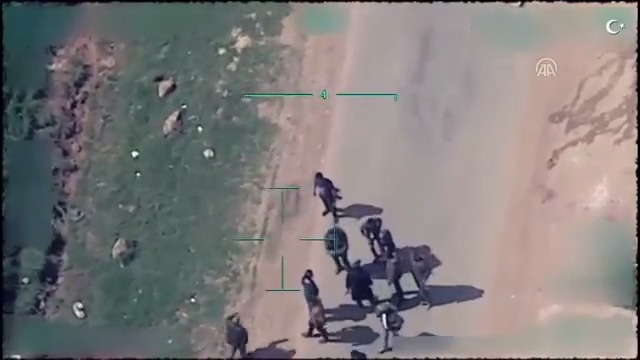insan: (309, 167, 346, 228), (343, 258, 379, 313), (376, 299, 409, 355), (214, 311, 249, 360), (376, 247, 409, 297), (355, 211, 385, 260), (321, 226, 351, 272), (300, 267, 321, 314)
